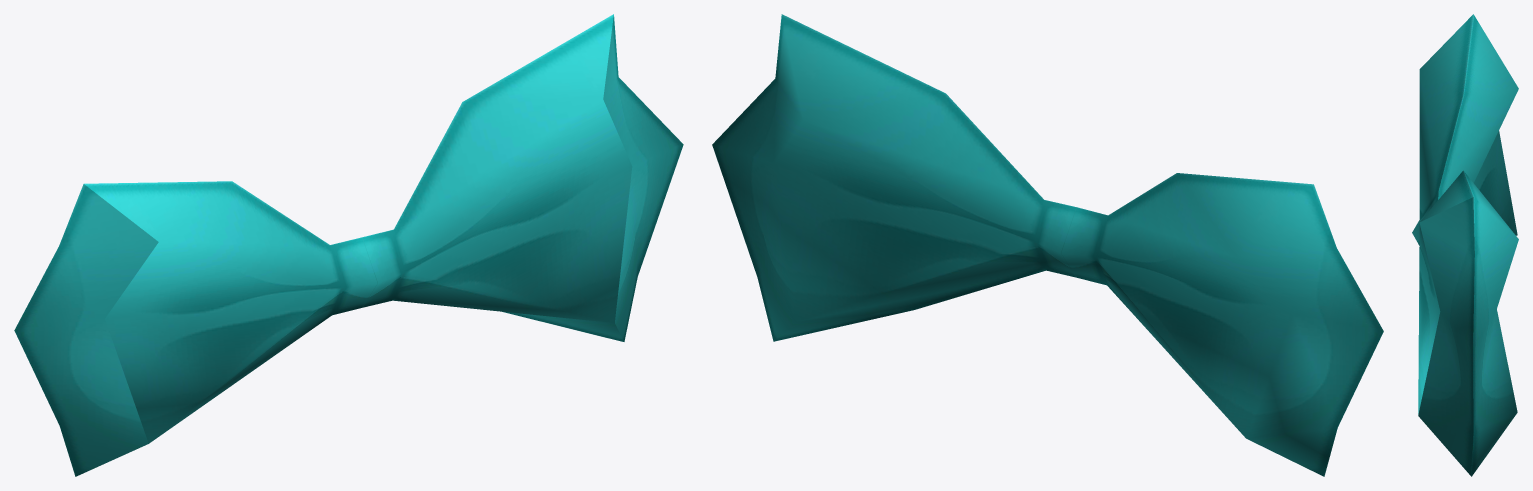
The model's file is helm0044.fbx.
3 renders of one model, left to right at view 1: azimuth 30°, elevation 25°; view 2: azimuth 150°, elevation 25°; view 3: azimuth 270°, elevation 25°, orthographic. The views are drawn at different scales.
Parts seen in each view (by area): view 1: helm0044_m; view 2: helm0044_m; view 3: helm0044_m.
Part boxes in pixels (x1,y1,x2,y2): helm0044_m: (14,14,683,476); helm0044_m: (712,14,1383,476); helm0044_m: (1412,14,1518,476).
Size of the model in its own units: 0.3575 by 0.1687 by 0.0591.
